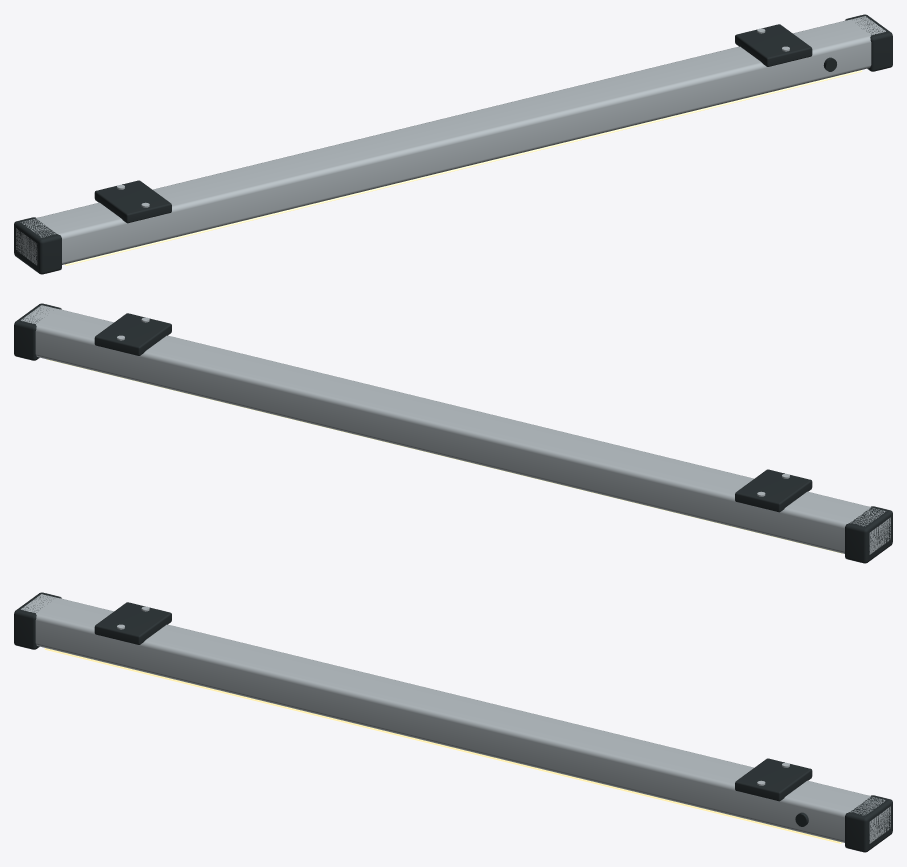
Rendered from under-cabinet-light-bar.glb.
3 renders of one model, top to bottom at view 1: azimuth 30°, elevation 25°; view 2: azimuth 150°, elevation 25°; view 3: azimuth 330°, elevation 25°, orthographic.
Parts seen in each view (by area): view 1: under-cabinet-light-bar authored assembly; view 2: under-cabinet-light-bar authored assembly; view 3: under-cabinet-light-bar authored assembly.
Boxes of the visible parts, x1,y1,x2,y2 form: under-cabinet-light-bar authored assembly: (14,14,892,274); under-cabinet-light-bar authored assembly: (14,303,892,563); under-cabinet-light-bar authored assembly: (14,592,892,852).
Size of the model in its own units: 0.6 by 0.03 by 0.04.
